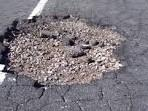alligator-crack: (0, 50, 146, 111)
pothole: (2, 15, 130, 82)
